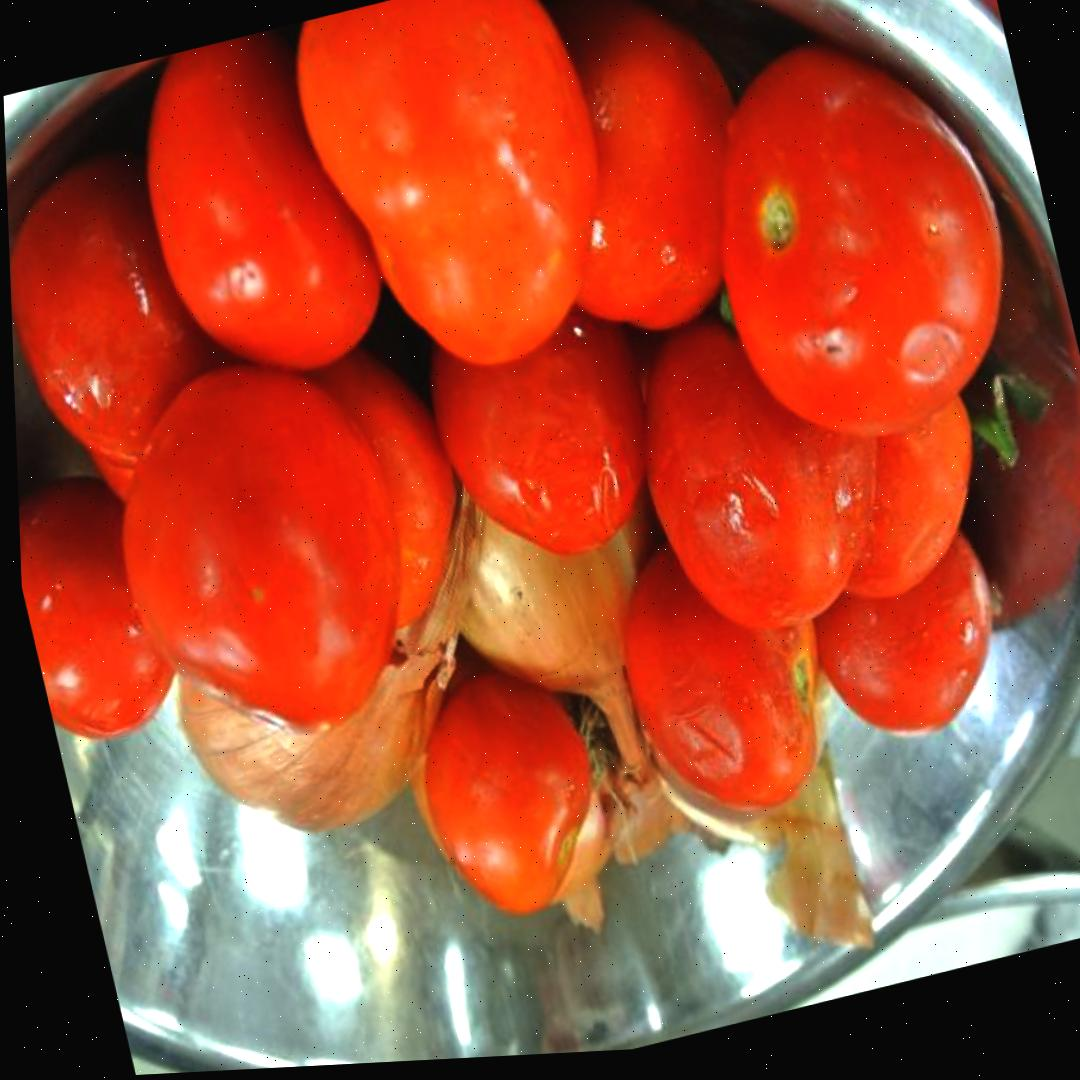matang: (674, 5, 1044, 467), (82, 328, 437, 763), (117, 12, 405, 405), (591, 494, 852, 841), (398, 647, 619, 930)
setengah_matang: (280, 0, 642, 402)
